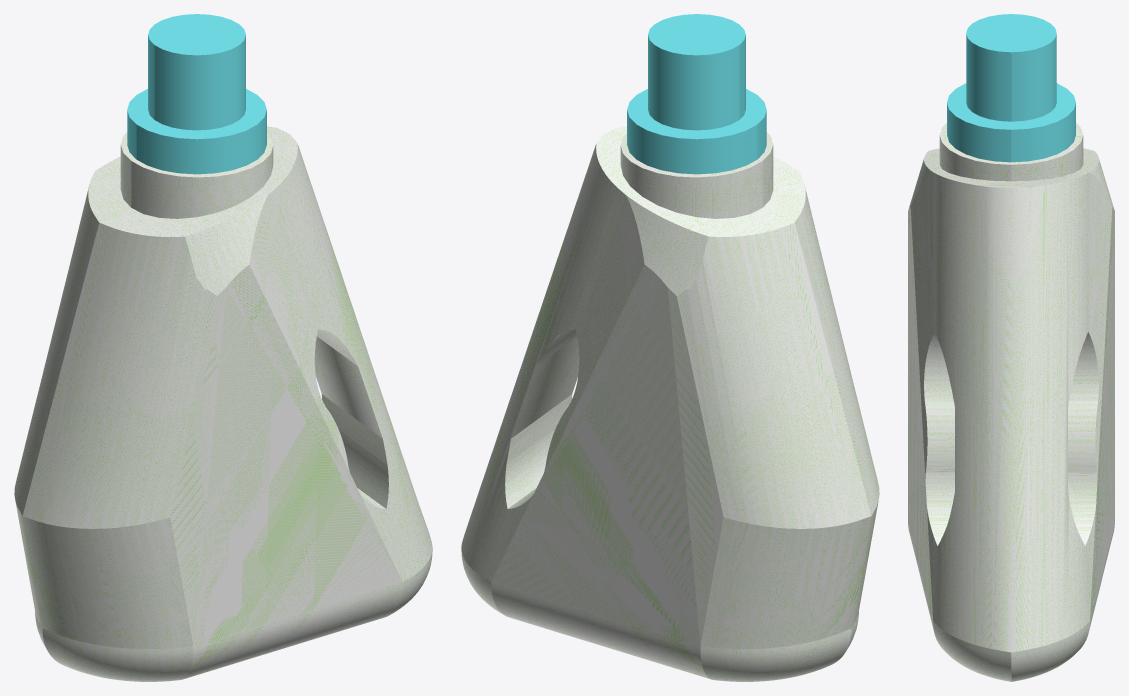
Rendered from Downy1.dae.
3 views of the same model, side by side, from view 1: azimuth 30°, elevation 25°; view 2: azimuth 150°, elevation 25°; view 3: azimuth 270°, elevation 25° (orthographic). The views are drawn at different scales.
Visible parts, largest first — view 1: SketchUp (×5); view 2: SketchUp (×5); view 3: SketchUp (×4).
Part boxes in pixels (bbox=[...]): SketchUp (×5): bbox=[14, 14, 432, 681]; SketchUp (×5): bbox=[461, 14, 879, 681]; SketchUp (×4): bbox=[908, 14, 1114, 681].
Size of the model in its own units: 7.15 by 3.4 by 10.13.
